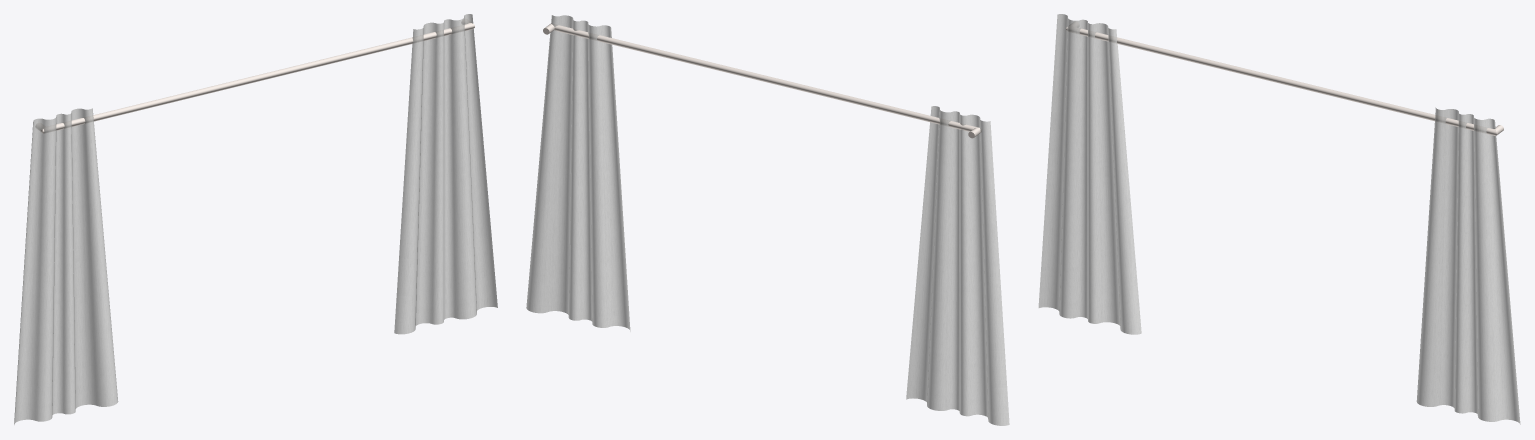
File: curtain.obj
3 renders of one model, left to right at view 1: azimuth 30°, elevation 25°; view 2: azimuth 150°, elevation 25°; view 3: azimuth 330°, elevation 25°, orthographic.
Visible parts, largest first — view 1: Mesh2 Curtain1 Curtain_Rod_with_curtains1 Model, Mesh3 Curtain2 Curtain_Rod_with_curtains1 Model, Mesh1 Group1 Curtain_Rod_with_curtains1 Model; view 2: Mesh3 Curtain2 Curtain_Rod_with_curtains1 Model, Mesh2 Curtain1 Curtain_Rod_with_curtains1 Model, Mesh1 Group1 Curtain_Rod_with_curtains1 Model; view 3: Mesh3 Curtain2 Curtain_Rod_with_curtains1 Model, Mesh2 Curtain1 Curtain_Rod_with_curtains1 Model, Mesh1 Group1 Curtain_Rod_with_curtains1 Model.
Boxes of the visible parts, x1=… form: Mesh2 Curtain1 Curtain_Rod_with_curtains1 Model: x1=14, y1=108, x2=118, y2=424; Mesh3 Curtain2 Curtain_Rod_with_curtains1 Model: x1=394, y1=14, x2=497, y2=334; Mesh1 Group1 Curtain_Rod_with_curtains1 Model: x1=35, y1=19, x2=474, y2=133; Mesh3 Curtain2 Curtain_Rod_with_curtains1 Model: x1=526, y1=15, x2=630, y2=331; Mesh2 Curtain1 Curtain_Rod_with_curtains1 Model: x1=906, y1=106, x2=1009, y2=425; Mesh1 Group1 Curtain_Rod_with_curtains1 Model: x1=543, y1=23, x2=981, y2=138; Mesh3 Curtain2 Curtain_Rod_with_curtains1 Model: x1=1416, y1=107, x2=1520, y2=424; Mesh2 Curtain1 Curtain_Rod_with_curtains1 Model: x1=1038, y1=14, x2=1141, y2=334; Mesh1 Group1 Curtain_Rod_with_curtains1 Model: x1=1066, y1=21, x2=1503, y2=135.
Bounding box in the file's own units: 143 × 84.51 × 5.49.
Materials: 2 (1 with a texture image).
